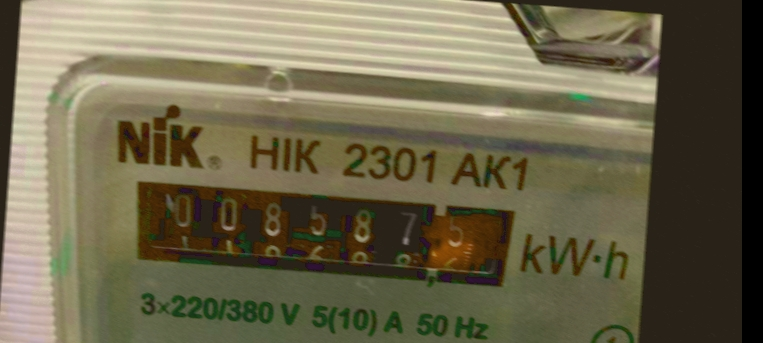0: (215, 193, 241, 234)
1: (169, 189, 196, 232)
5: (443, 210, 470, 252), (305, 200, 331, 240)
7: (394, 208, 420, 250)
8: (258, 198, 286, 240), (350, 204, 374, 247)
screen: (110, 160, 535, 309)
